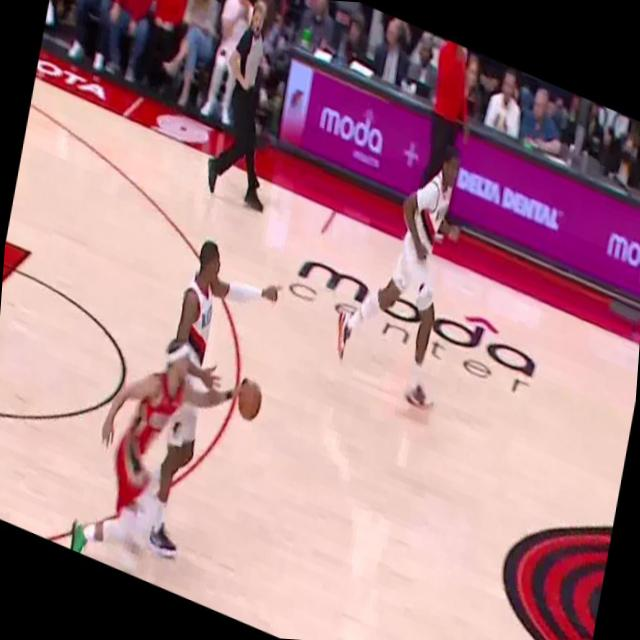ball-handler: (56, 303, 272, 616)
